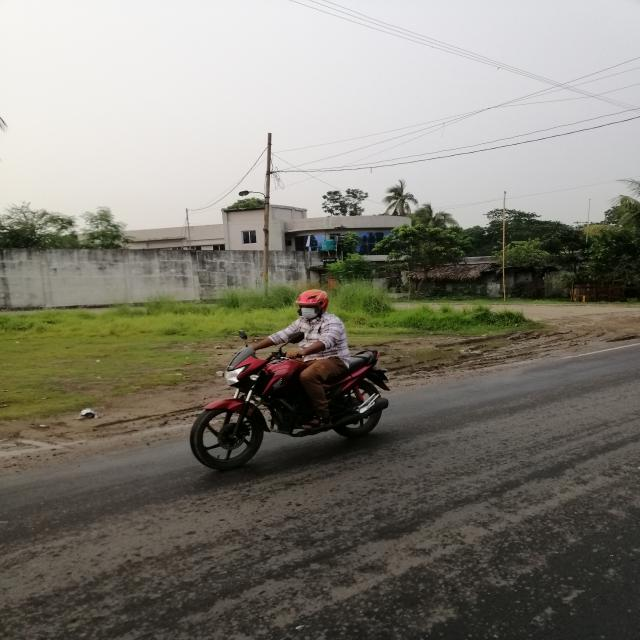Motorbike: (166, 328, 421, 485)
